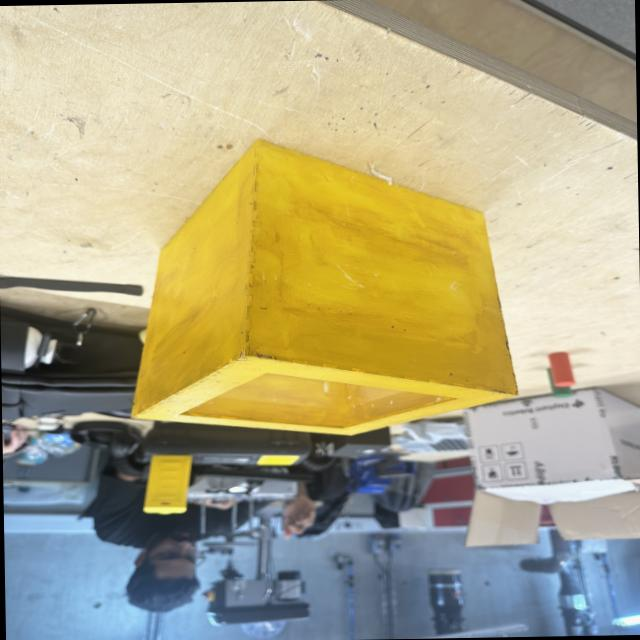yellow_bin: (124, 132, 518, 441)
